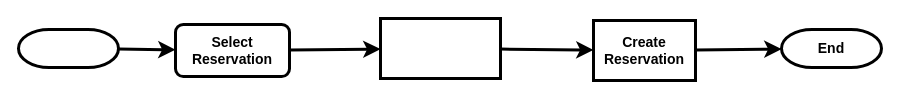
This 900x99 diagram has some shape labels left out. Each missing label, with the centre of its shape:
Cancel: the point at 440,48
Start: the point at 68,48
